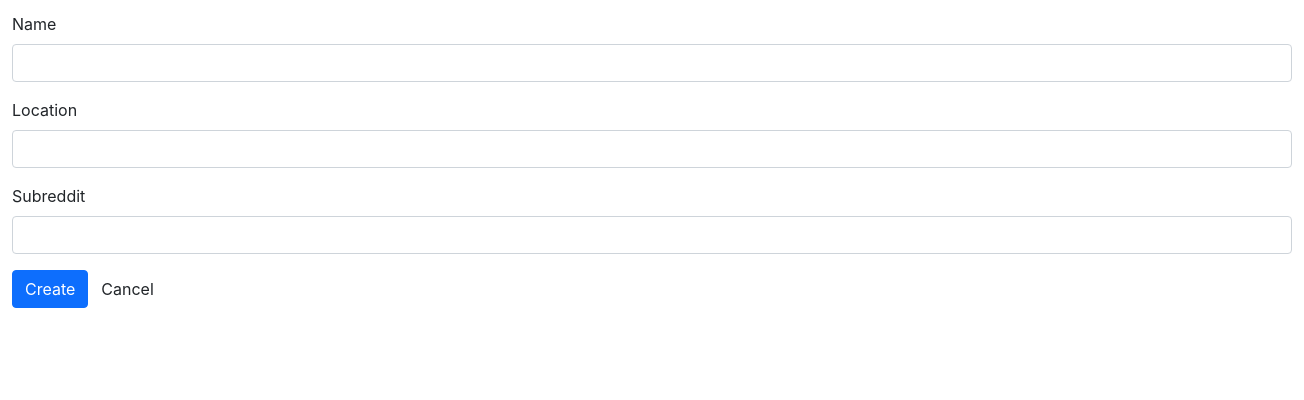
Scenario: CollegiateSubredditForm tests › Correct Error messsages on missing input
Click the button with test id "CollegiateSubredditForm-submit".
click(50, 289)  # box [12, 270, 88, 308]
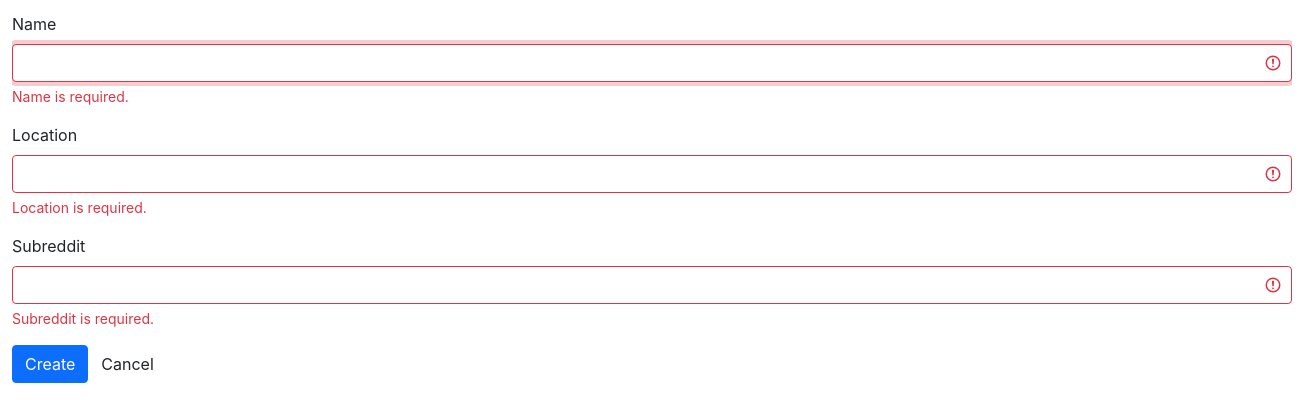
Check: the text "Name is required." is shown, box [12, 88, 129, 105]
Check: the text "Location is required." is shown, box [12, 199, 147, 216]
Check: the text "Subreddit is required." is shown, box [12, 310, 154, 327]
